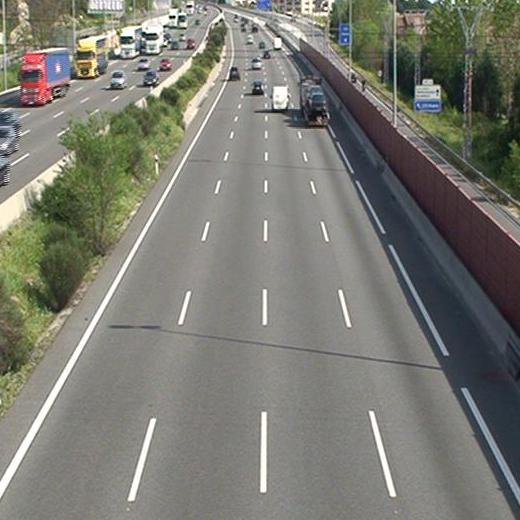car: (308, 93, 326, 116), (250, 58, 263, 70), (229, 66, 239, 80), (252, 81, 263, 93)
truck: (299, 75, 329, 128)
van: (272, 86, 288, 112)
